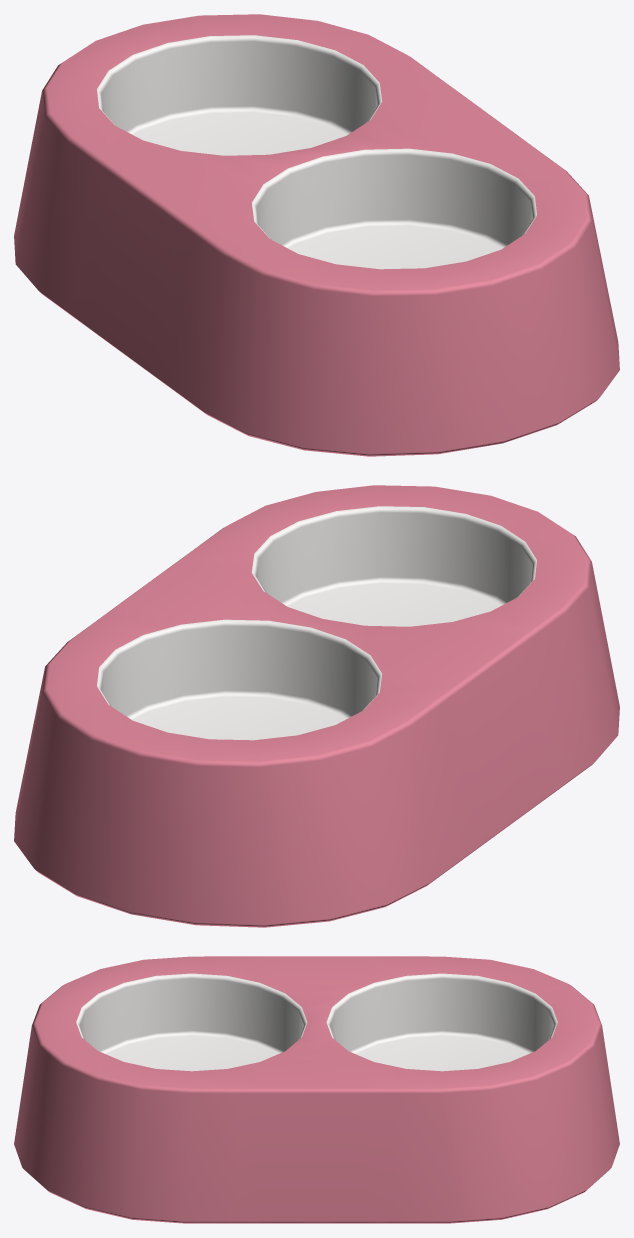
The model's file is 狗粮喂食.fbx.
3 views of the same model, one above another, from view 1: azimuth 30°, elevation 25°; view 2: azimuth 150°, elevation 25°; view 3: azimuth 270°, elevation 25° (orthographic). The views are drawn at different scales.
Parts seen in each view (by area): view 1: Pet_Food_Bowl_2_Cartoon_Room_Mat1_001; view 2: Pet_Food_Bowl_2_Cartoon_Room_Mat1_001; view 3: Pet_Food_Bowl_2_Cartoon_Room_Mat1_001.
Part boxes in pixels (x1,y1,x2,y2): Pet_Food_Bowl_2_Cartoon_Room_Mat1_001: (14,14,619,456); Pet_Food_Bowl_2_Cartoon_Room_Mat1_001: (14,485,619,927); Pet_Food_Bowl_2_Cartoon_Room_Mat1_001: (14,956,619,1223).
Bounding box in the file's own units: 34.51 × 13.06 × 57.19.
